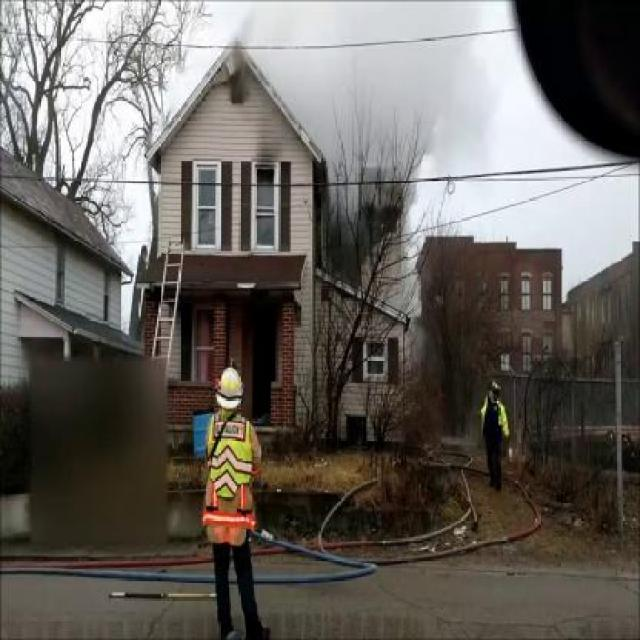smoke: (260, 16, 503, 312), (330, 148, 412, 287), (376, 227, 438, 396), (233, 20, 252, 106)
